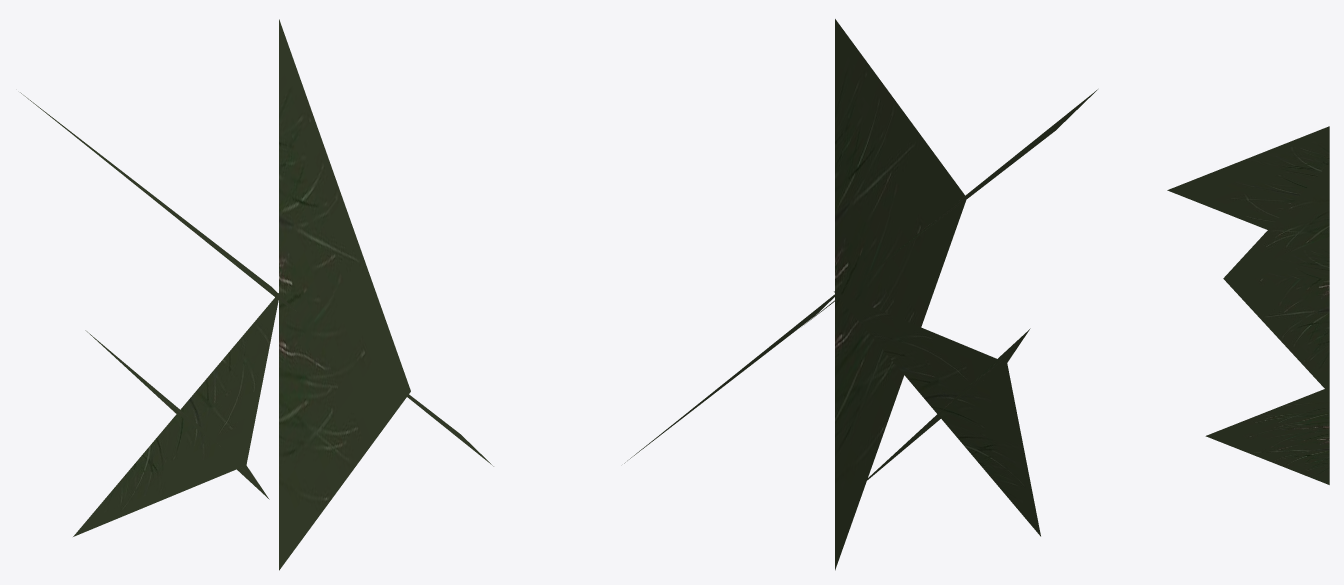
File: brush_shortnewgrass_squareclumpshort.glb
3 renders of one model, left to right at view 1: azimuth 30°, elevation 25°; view 2: azimuth 150°, elevation 25°; view 3: azimuth 270°, elevation 25°, orthographic. The views are drawn at different scales.
Size of the model in its own units: 44.6 by 44.51 by 19.29.
1 material, 1 textured.
